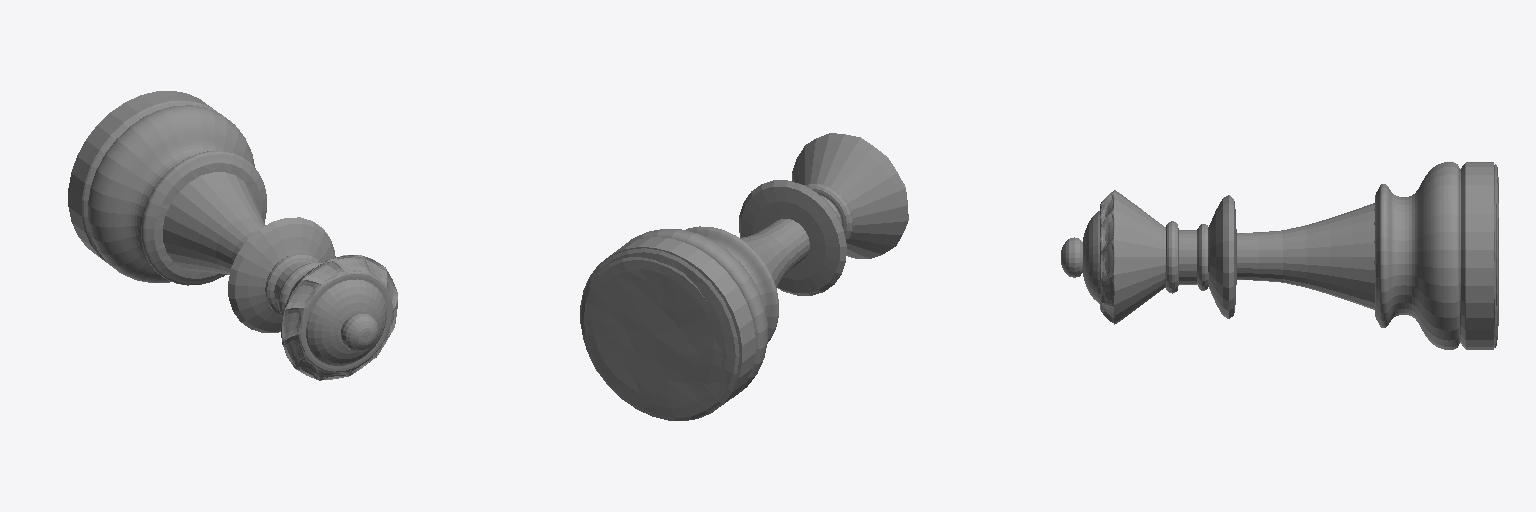
The model's file is queen.obj.
The picture shows the model from 3 angles: view 1: azimuth 30°, elevation 25°; view 2: azimuth 150°, elevation 25°; view 3: azimuth 270°, elevation 25°; orthographic projection.
Parts seen in each view (by area): view 1: queen; view 2: queen, bishop_, queen_; view 3: queen.
Part boxes in pixels (x1,y1,x2,y2): queen: (68, 91, 397, 380); queen: (580, 133, 908, 420); bishop_: (582, 257, 722, 404); queen_: (581, 248, 739, 420); queen: (1061, 162, 1493, 349).
Size of the model in its own units: 43.5 by 43.5 by 102.